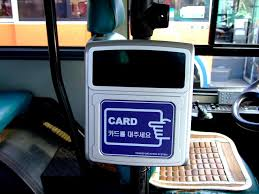terminal: (82, 39, 198, 170)
